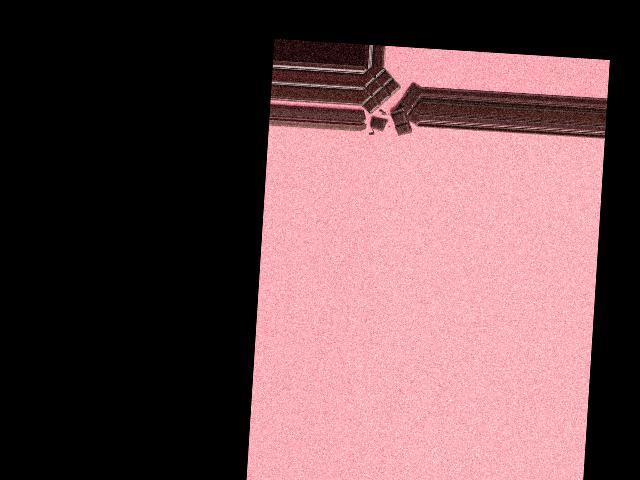chocolate: (360, 65, 418, 132)
